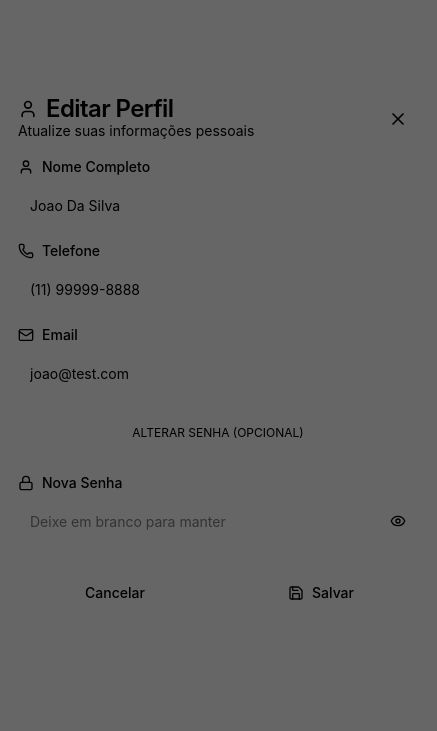
ProfileEditModal › should show error when new password is too short
Type "Ab1" into the password field with placeholder "Deixe em branco para manter" at (218, 521), box left=18, top=501, right=418, bottom=541
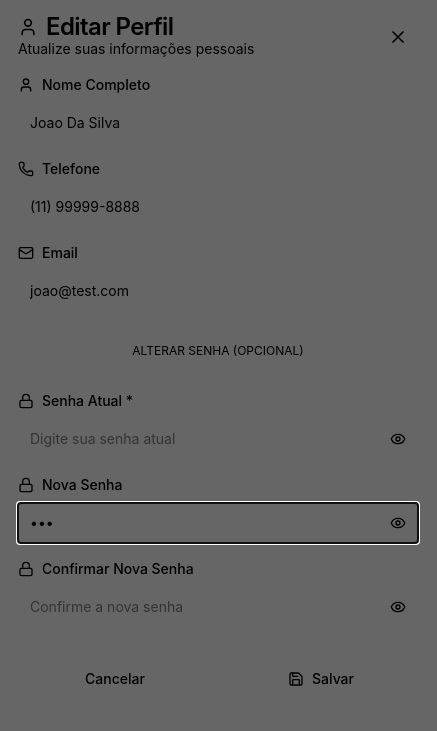
Also type current password and confirm
Type "OldPass1" into the password field with placeholder "Digite sua senha atual" at (218, 438), box left=18, top=418, right=418, bottom=458
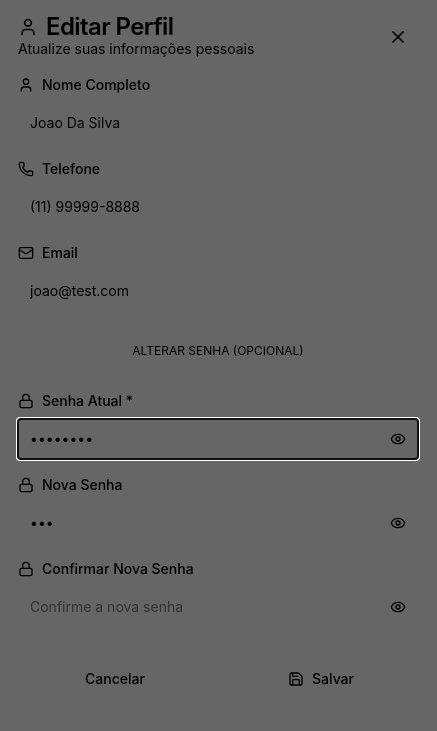
Type "Ab1" into the password field with placeholder "Confirme a nova senha" at (218, 606), box left=18, top=586, right=418, bottom=626
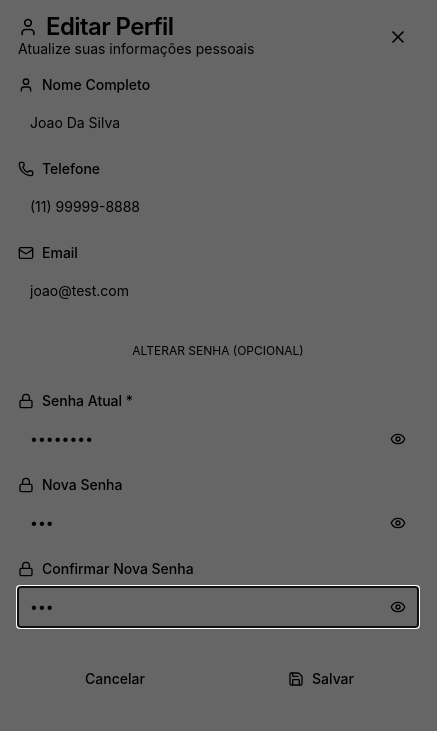
Click the button "Salvar" at (321, 678), box left=224, top=658, right=418, bottom=698
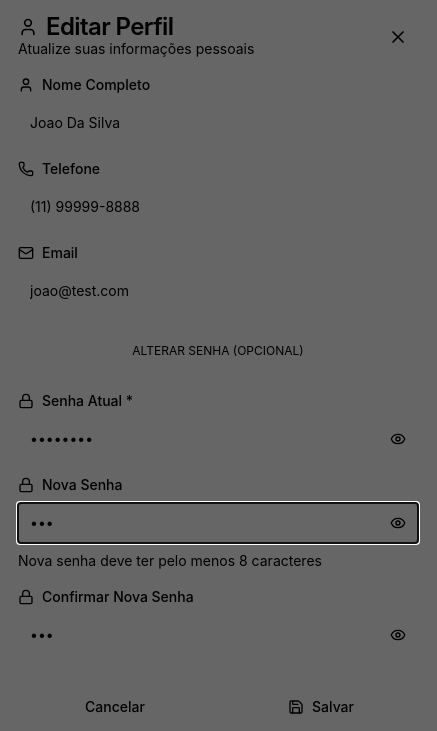
Expected: the text "Nova senha deve ter pelo menos 8 caracteres" is shown, left=18, top=552, right=322, bottom=568
